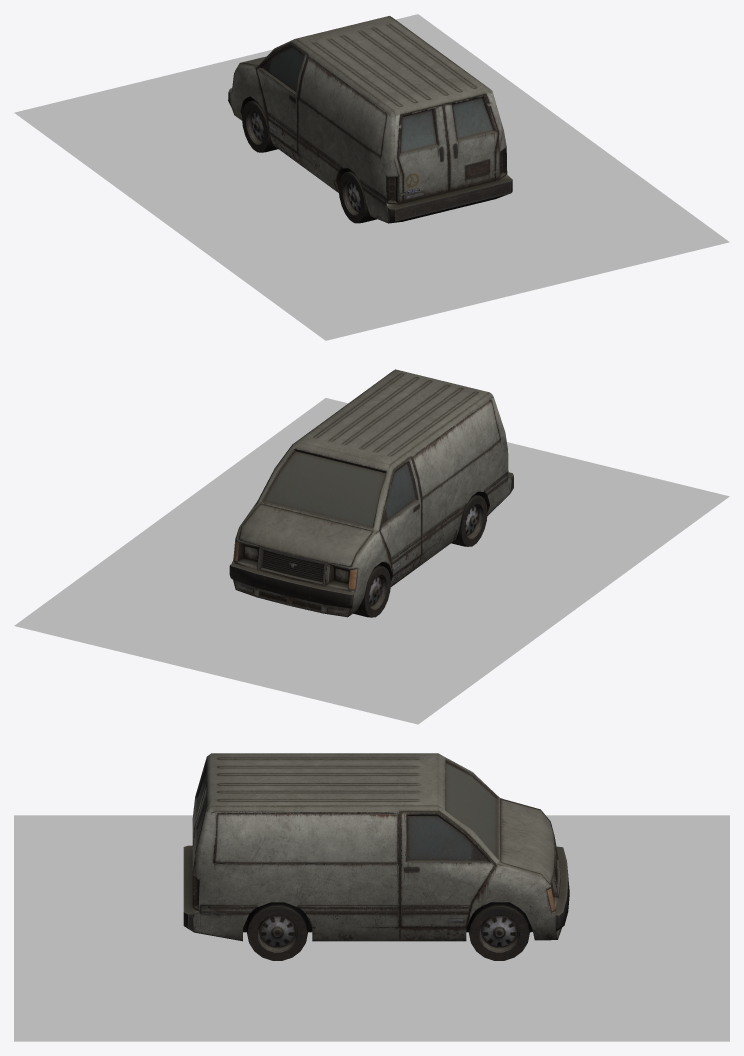
The model's file is vanfinale.FBX.
3 views of the same model, one above another, from view 1: azimuth 30°, elevation 25°; view 2: azimuth 150°, elevation 25°; view 3: azimuth 270°, elevation 25° (orthographic). The views are drawn at different scales.
Parts seen in each view (by area): view 1: Plane001, Box001; view 2: Plane001, Box001; view 3: Plane001, Box001.
Part boxes in pixels (bbox=[...]): Plane001: bbox=[14, 14, 729, 340]; Box001: bbox=[228, 16, 512, 223]; Plane001: bbox=[14, 398, 729, 724]; Box001: bbox=[229, 369, 513, 617]; Plane001: bbox=[14, 815, 729, 1041]; Box001: bbox=[183, 753, 569, 960].
Size of the model in its own units: 283 by 86.64 by 379.
